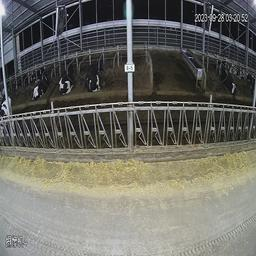cow: (58, 65, 79, 95), (85, 61, 103, 94), (220, 64, 237, 95), (32, 76, 49, 101), (30, 67, 47, 84)
